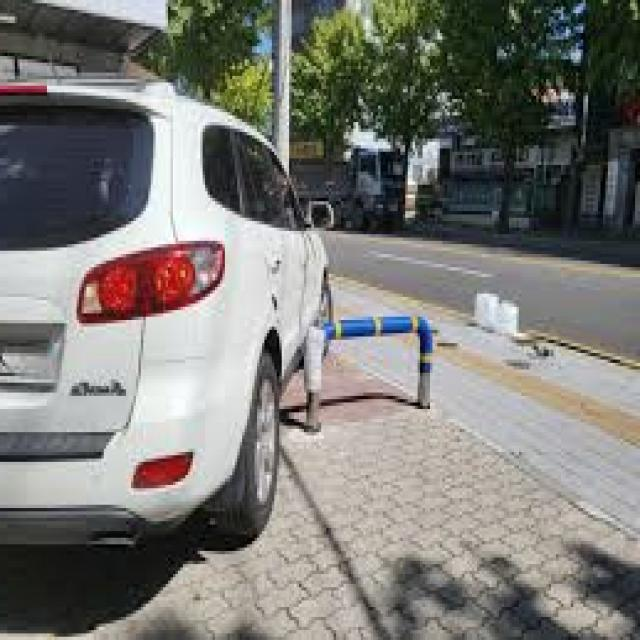bollard: (294, 308, 440, 443)
